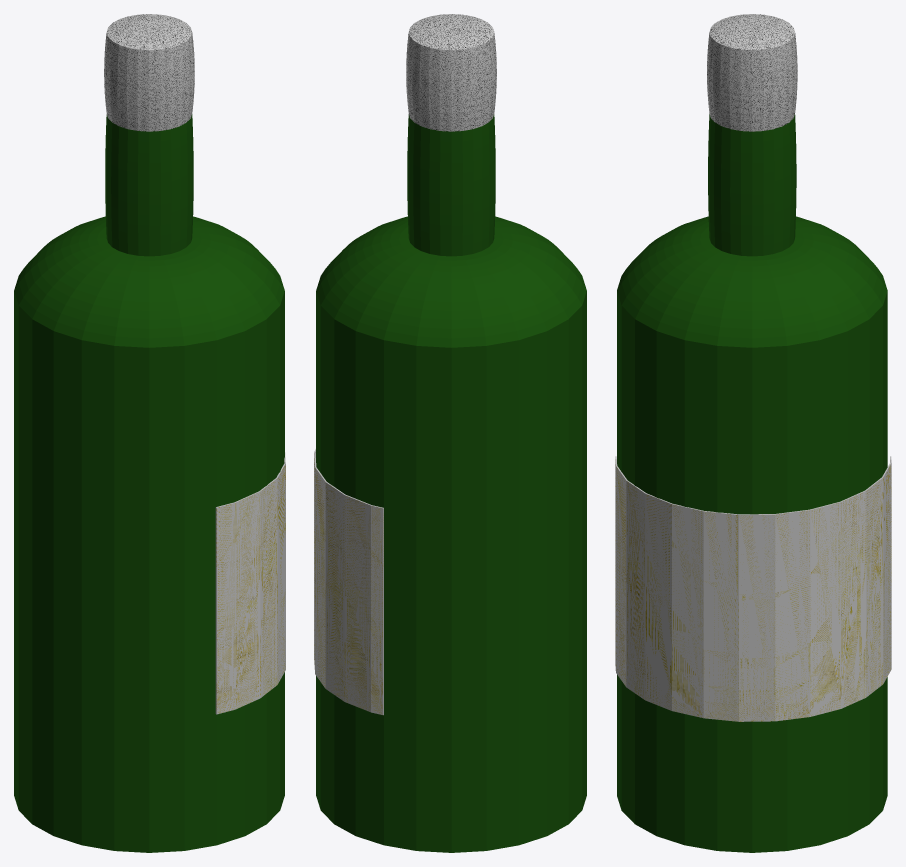
The picture shows the model from 3 angles, left to right: view 1: azimuth 30°, elevation 25°; view 2: azimuth 150°, elevation 25°; view 3: azimuth 270°, elevation 25°; orthographic projection.
Visible parts, largest first — view 1: mesh3_mesh3-geometry, mesh5_mesh5-geometry, mesh2_mesh2-geometry; view 2: mesh3_mesh3-geometry, mesh5_mesh5-geometry, mesh2_mesh2-geometry; view 3: mesh3_mesh3-geometry, mesh2_mesh2-geometry, mesh5_mesh5-geometry.
Boxes of the visible parts, bbox=[...] form: mesh3_mesh3-geometry: bbox=[14, 291, 284, 852]; mesh5_mesh5-geometry: bbox=[14, 14, 284, 347]; mesh2_mesh2-geometry: bbox=[215, 452, 285, 714]; mesh3_mesh3-geometry: bbox=[316, 291, 586, 852]; mesh5_mesh5-geometry: bbox=[316, 14, 586, 347]; mesh2_mesh2-geometry: bbox=[314, 449, 383, 715]; mesh3_mesh3-geometry: bbox=[617, 291, 887, 852]; mesh2_mesh2-geometry: bbox=[615, 456, 891, 721]; mesh5_mesh5-geometry: bbox=[617, 14, 887, 347].
Bounding box in the file's own units: 0.2899 × 0.9106 × 0.2945.
